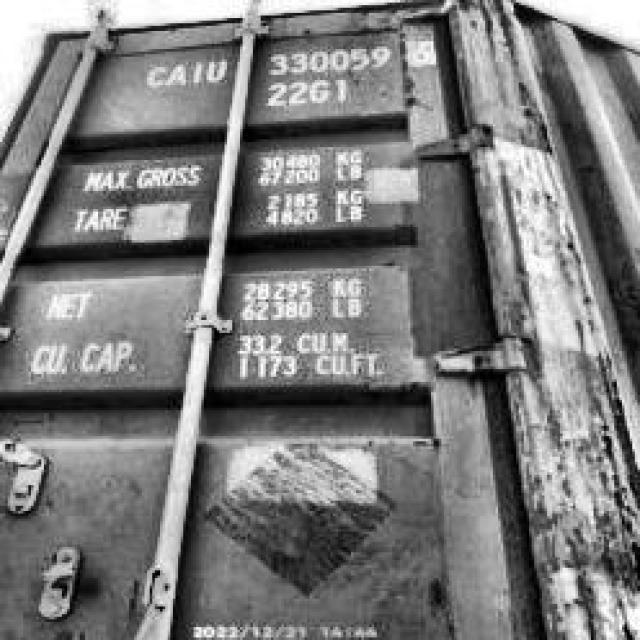ISO: (258, 76, 356, 112)
container_number: (136, 30, 436, 94)
